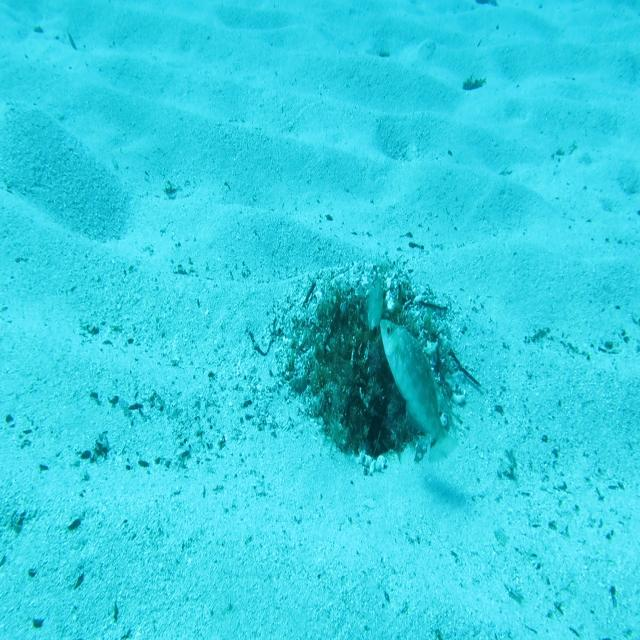GB: (379, 317, 460, 466)
core_nest: (343, 309, 392, 363)
female: (360, 268, 385, 336)
nest: (262, 244, 469, 488)
vegetation: (463, 74, 488, 94), (467, 0, 499, 9)
